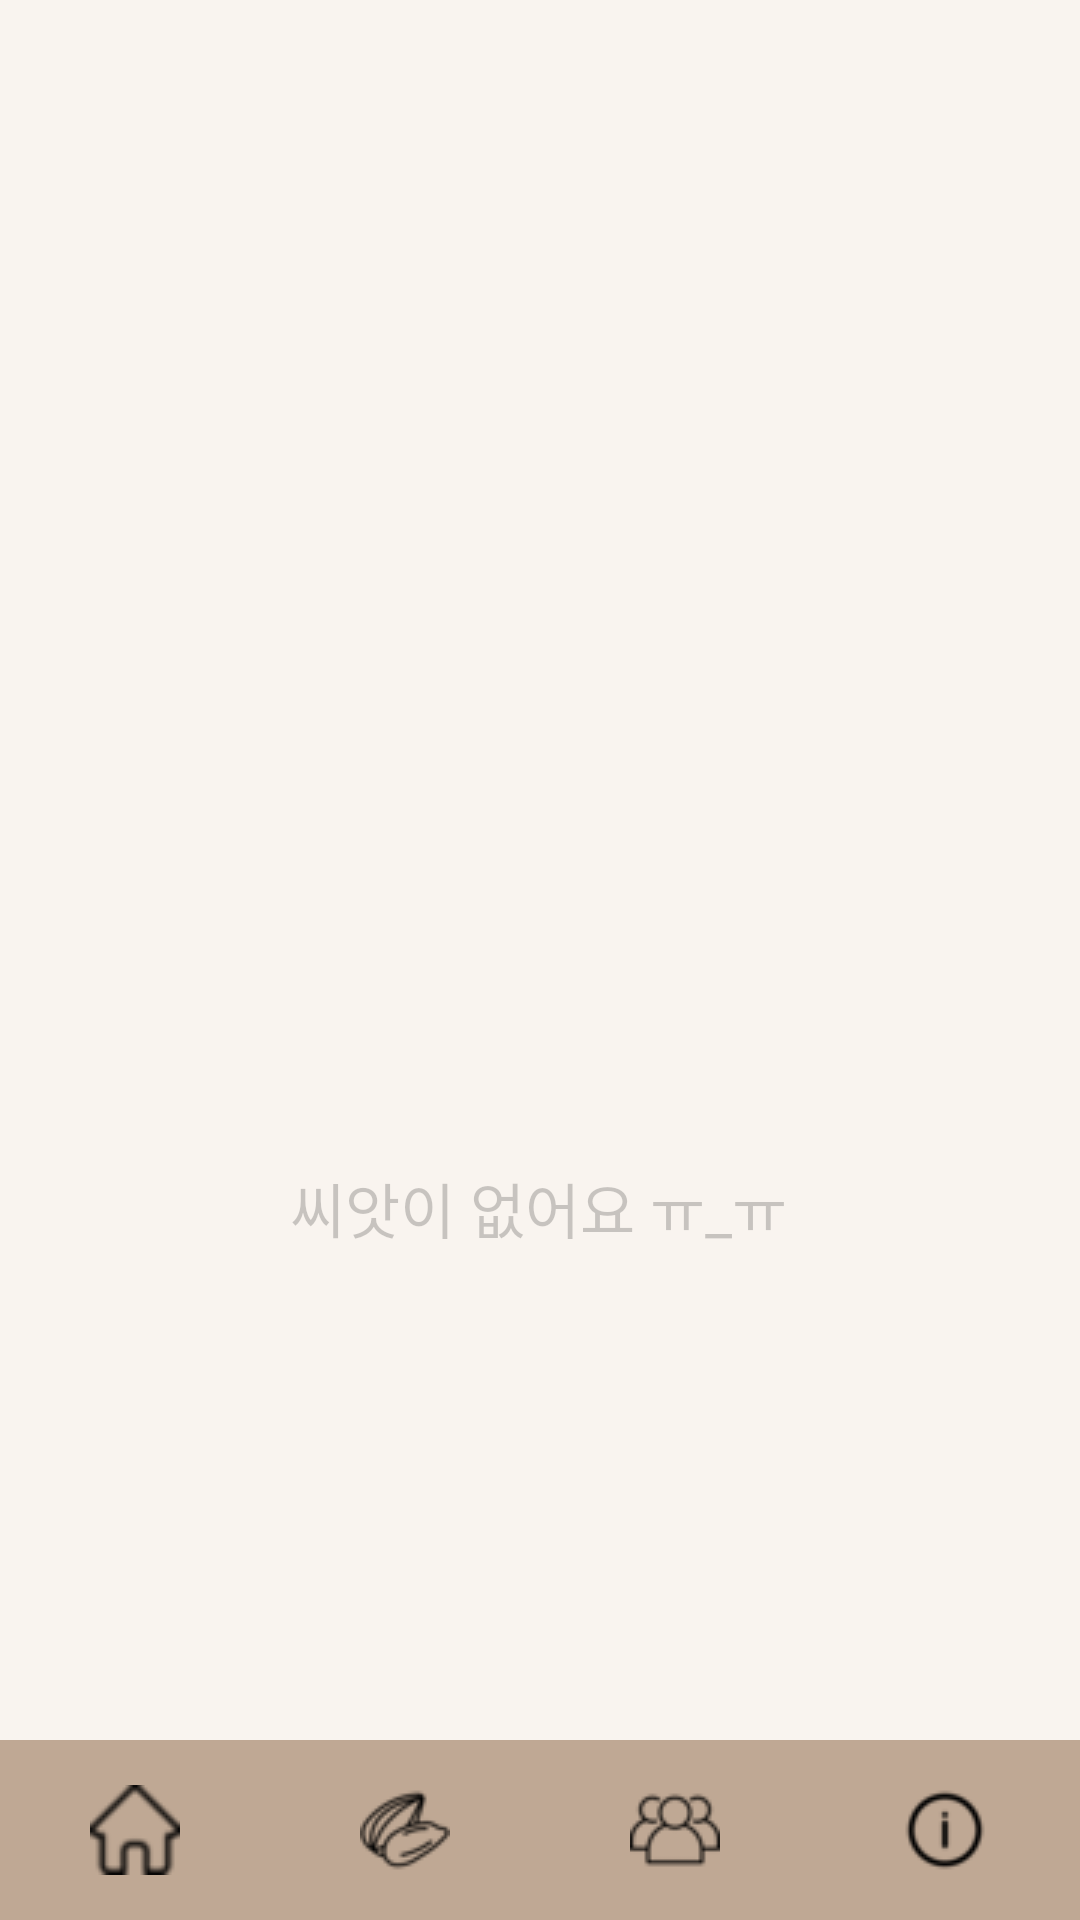

Locate icon controls on the screen. Image size 1080 × 1920, boxes as (x1, y1, x2, y2).
friend: (630, 1794, 720, 1866)
home: (90, 1785, 180, 1875)
info: (906, 1791, 984, 1869)
seed: (360, 1791, 450, 1869)
